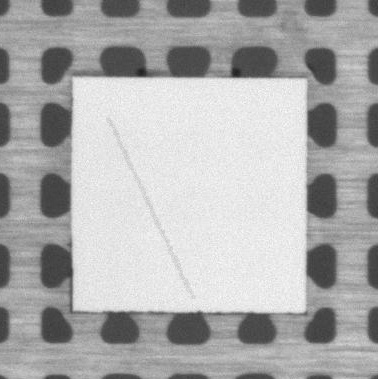DIE_CRACK: (109, 119, 192, 299)
